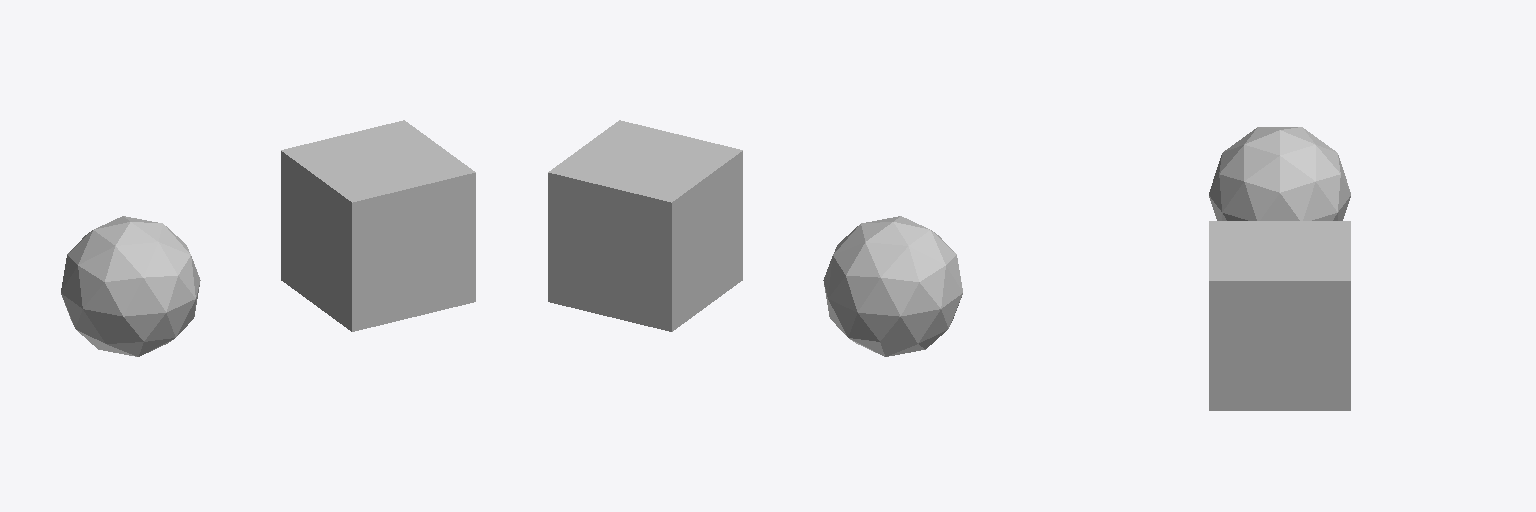
Rendered from shapes.obj.
3 renders of one model, left to right at view 1: azimuth 30°, elevation 25°; view 2: azimuth 150°, elevation 25°; view 3: azimuth 270°, elevation 25°, orthographic.
Visible parts, largest first — view 1: Cube, Icosphere; view 2: Cube, Icosphere; view 3: Cube, Icosphere.
Part boxes in pixels (x1,y1,x2,y2): Cube: (281, 120, 475, 331); Icosphere: (61, 216, 200, 356); Cube: (548, 120, 742, 331); Icosphere: (823, 216, 962, 356); Cube: (1209, 221, 1350, 410); Icosphere: (1209, 127, 1350, 220).
Size of the model in its own units: 5.95 by 2 by 2.